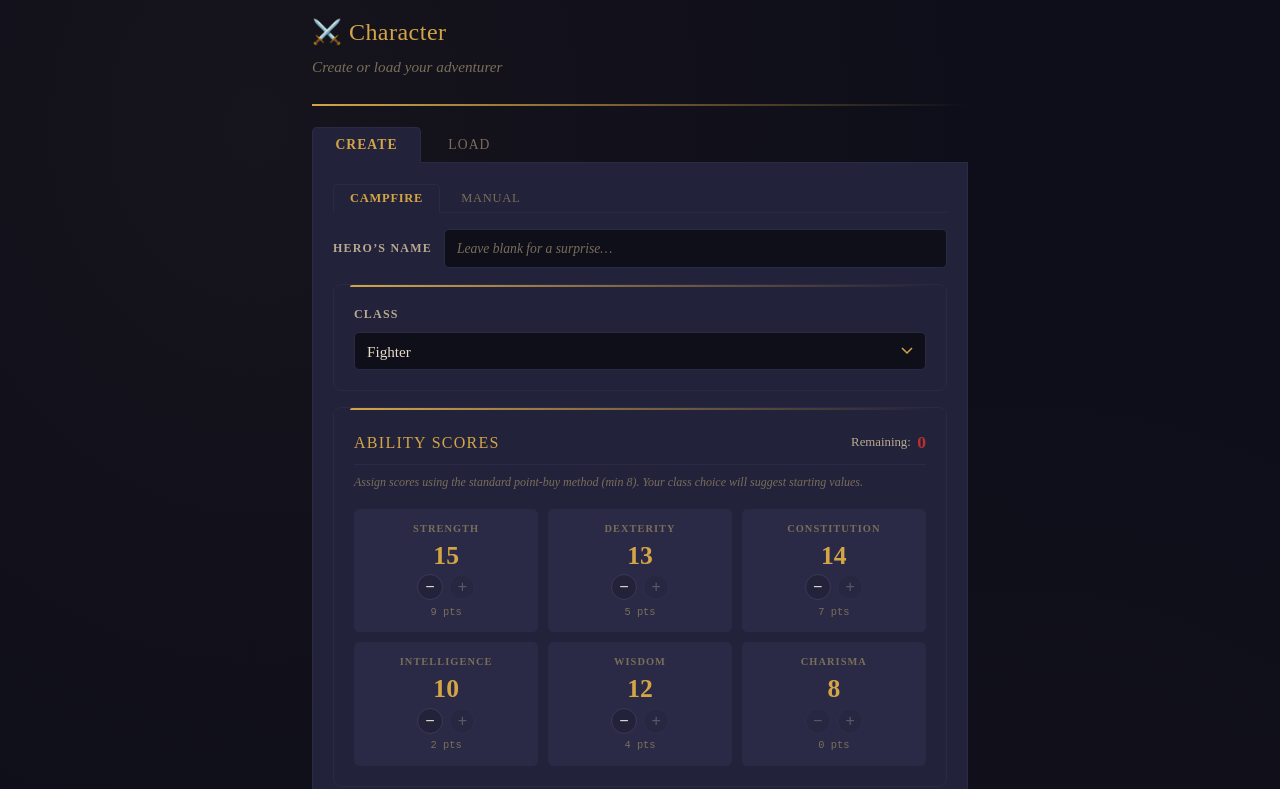
CharacterPage — Create tab › switches back to CampfireMode when Campfire sub-tab is clicked after Manual
The image size is (1280, 789).
// Switch to Manual first
Step 1. Click the button "Manual" → (491, 198), box top-left (444, 184), bottom-right (537, 213)
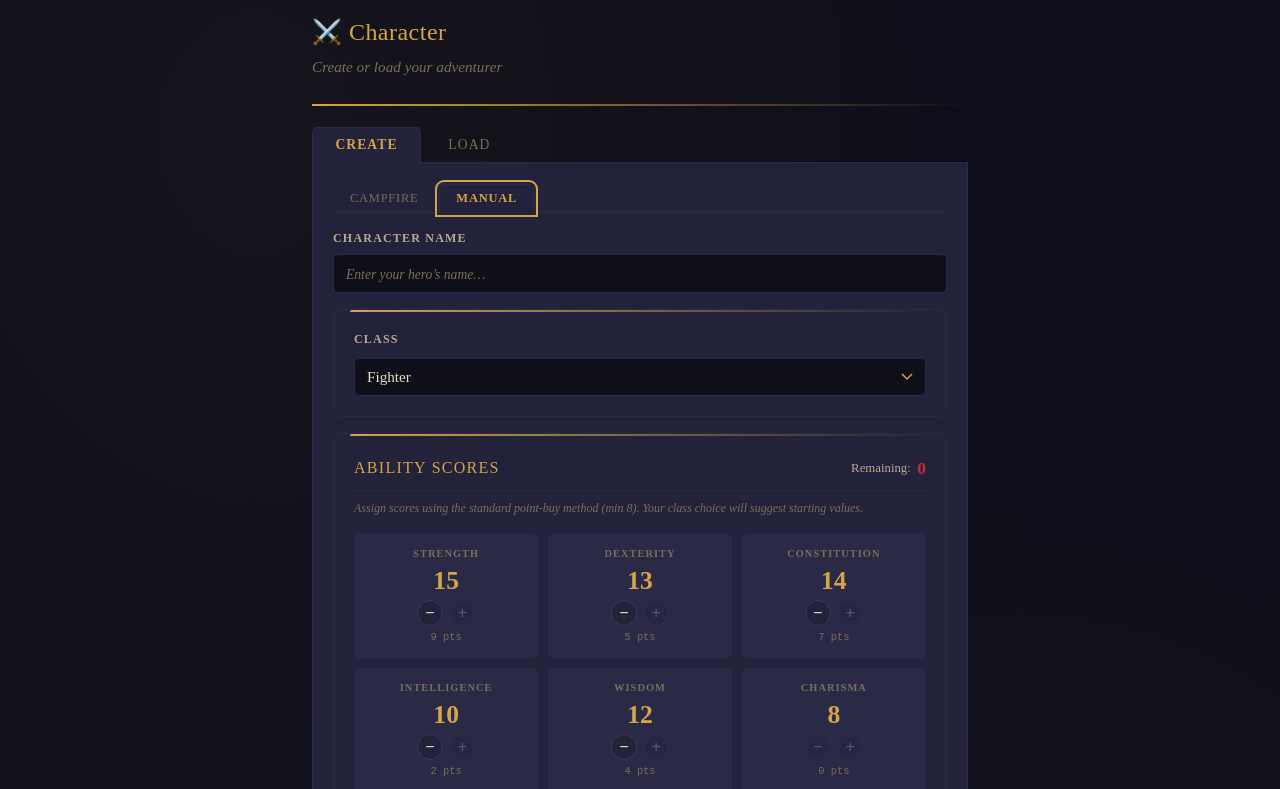
// Switch back to Campfire
Step 2. Click the button "Campfire" → (384, 198), box top-left (333, 184), bottom-right (435, 213)
(page scrolled)
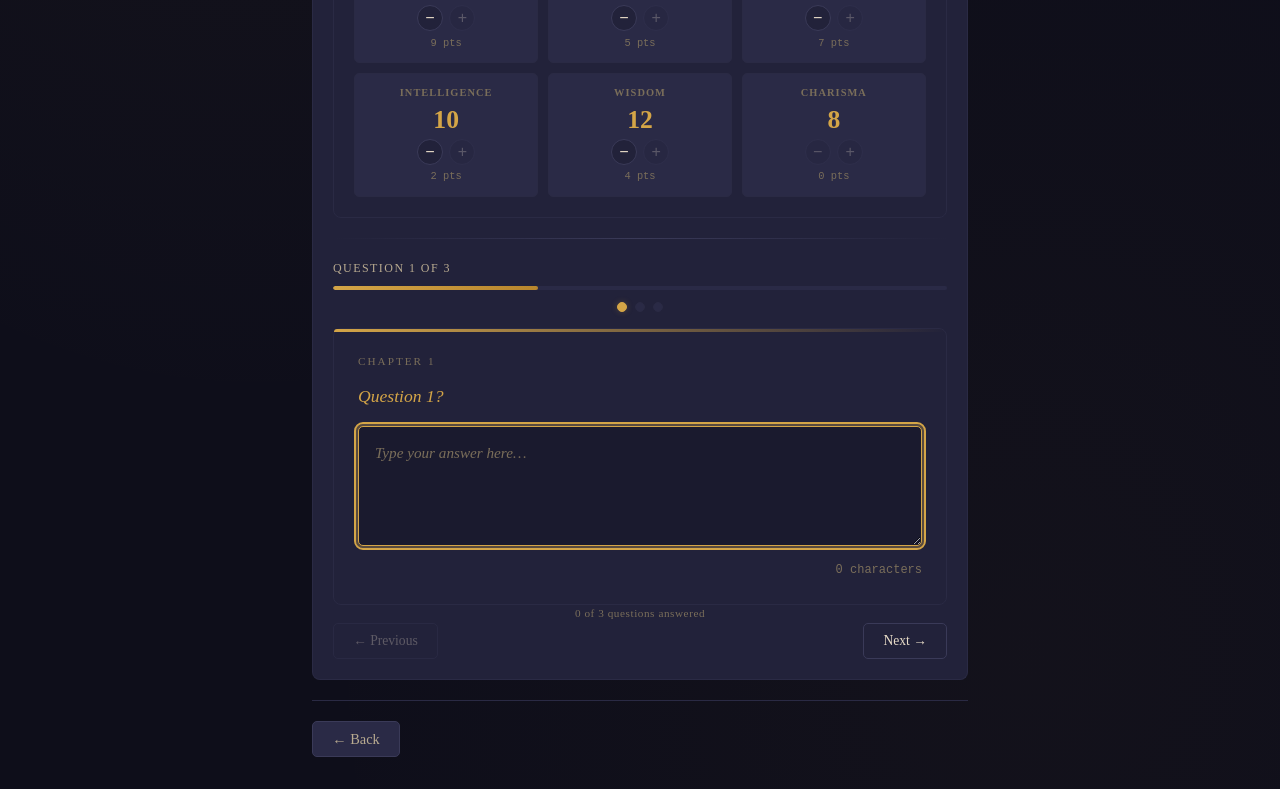
Now the progress indicator is shown, box top-left (333, 286), bottom-right (947, 290)
